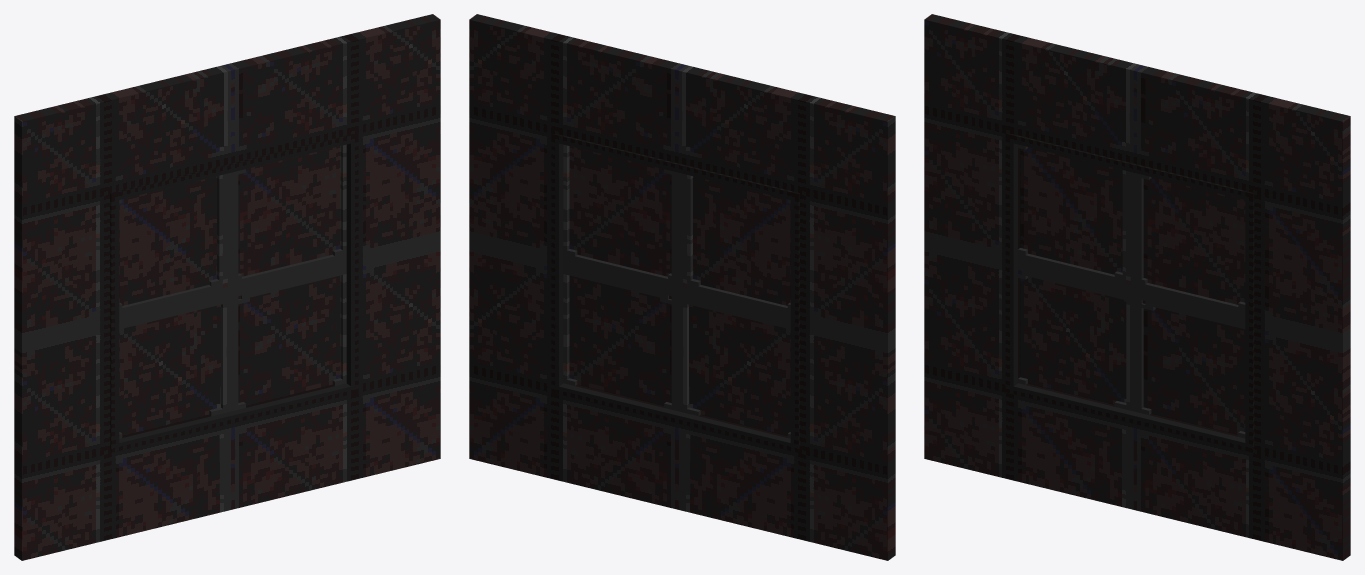
Rendered from door_wall1.fbx.
3 renders of one model, left to right at view 1: azimuth 30°, elevation 25°; view 2: azimuth 150°, elevation 25°; view 3: azimuth 330°, elevation 25°, orthographic.
Parts seen in each view (by area): view 1: door_wall1.frame, door_wall1.panelbotright, door_wall1.paneltopright, door_wall1.panelbotleft, door_wall1.paneltopleft; view 2: door_wall1.frame, door_wall1.panelbotright, door_wall1.paneltopright, door_wall1.panelbotleft, door_wall1.paneltopleft; view 3: door_wall1.frame, door_wall1.panelbotleft, door_wall1.panelbotright, door_wall1.paneltopleft, door_wall1.paneltopright.
Part boxes in pixels (x1,y1,x2,y2): door_wall1.frame: (14,14,440,560); door_wall1.panelbotright: (230,262,346,411); door_wall1.paneltopright: (230,144,346,289); door_wall1.panelbotleft: (119,290,230,438); door_wall1.paneltopleft: (119,173,230,316); door_wall1.frame: (469,14,895,560); door_wall1.panelbotright: (563,262,679,411); door_wall1.paneltopright: (563,144,679,289); door_wall1.panelbotleft: (679,290,790,438); door_wall1.paneltopleft: (679,173,790,316); door_wall1.frame: (924,14,1350,560); door_wall1.panelbotleft: (1018,261,1133,411); door_wall1.panelbotright: (1134,290,1245,438); door_wall1.paneltopleft: (1018,144,1133,289); door_wall1.paneltopright: (1134,173,1245,316).
Bounding box in the file's own units: 433 × 434 × 28.
